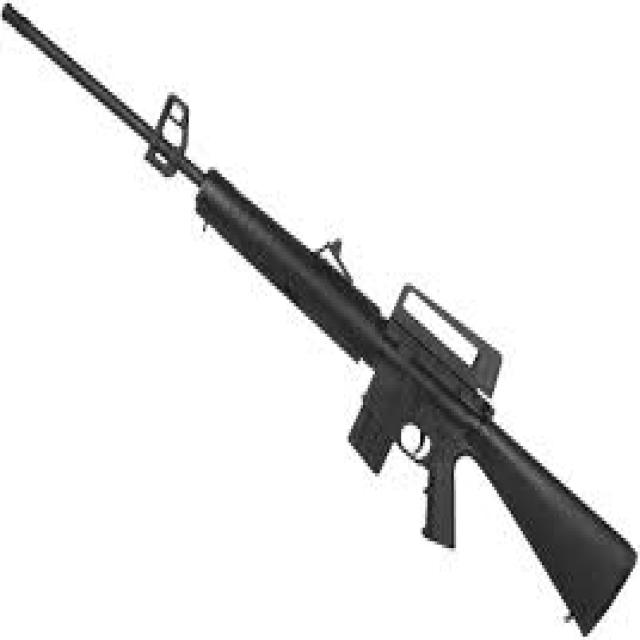rifle: (1, 4, 640, 640)
